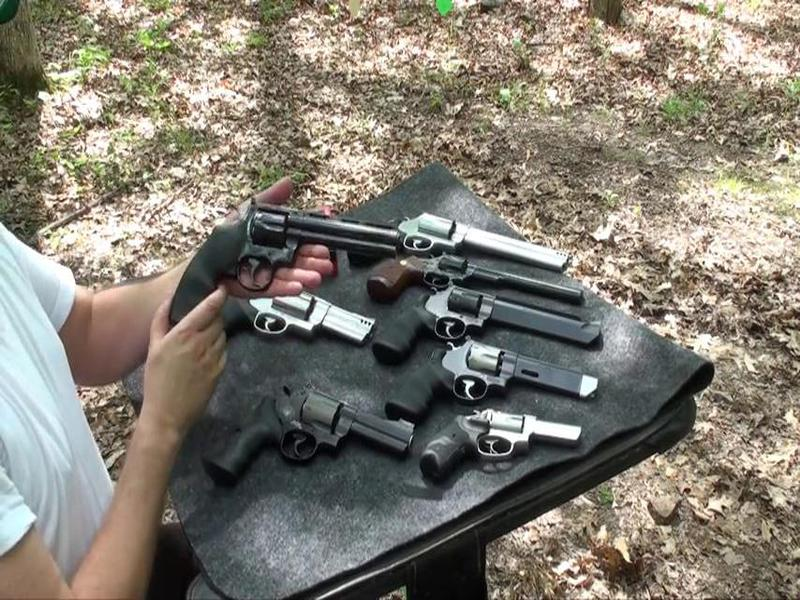Revolver: (170, 176, 416, 362)
